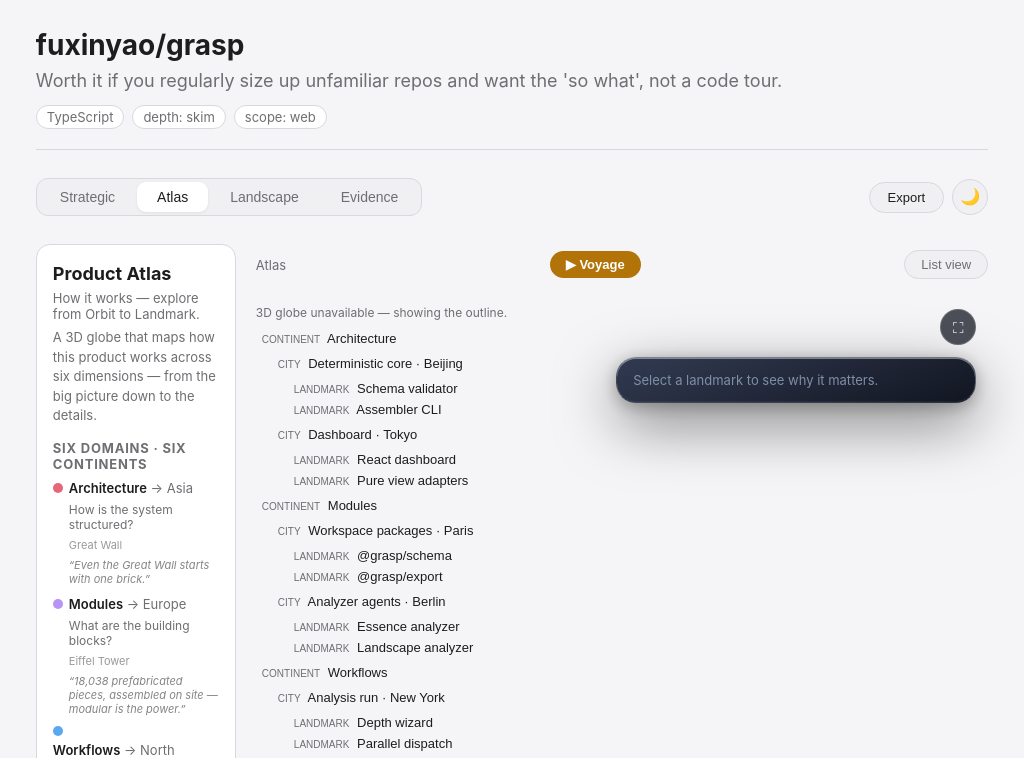
Test case: App › selecting a landmark updates the breadcrumb and detail panel
The width and height of the screenshot is (1024, 758).
Click the button with test id "outline-node-lm_validator": (322, 390) 288,378 -> 988,399
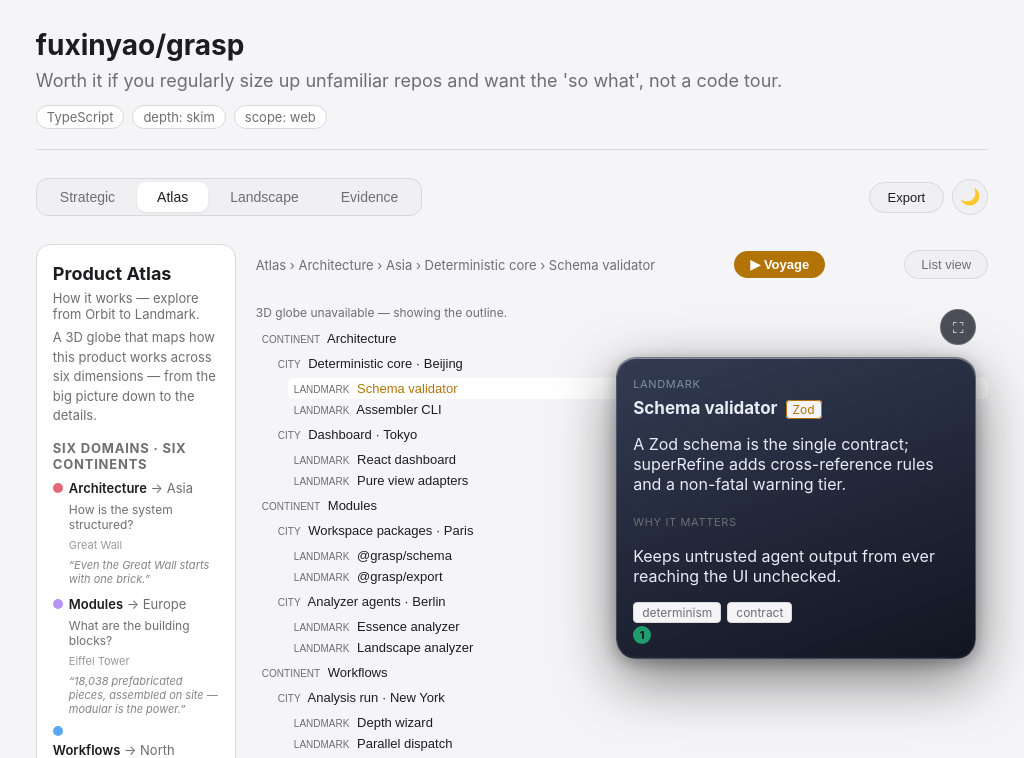
Check: the text with test id "atlas-breadcrumb" shows "Architecture", box 256,256 -> 655,272
Check: the 2nd heading shows "Schema validator", box 633,398 -> 778,418
